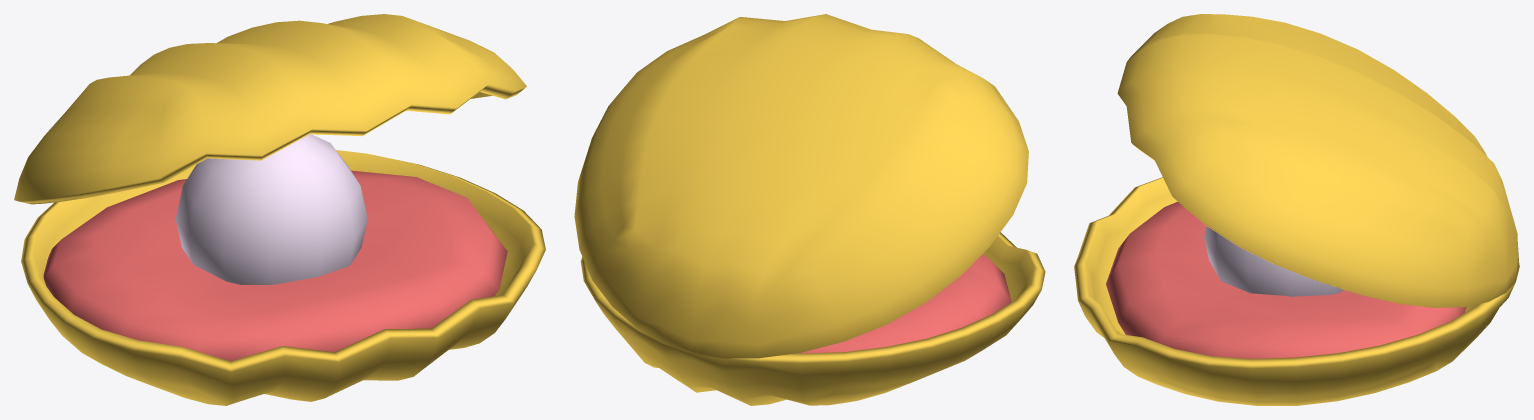
File: Shell.fbx
3 views of the same model, side by side, from view 1: azimuth 30°, elevation 25°; view 2: azimuth 150°, elevation 25°; view 3: azimuth 270°, elevation 25° (orthographic). The views are drawn at different scales.
Visible parts, largest first — view 1: pCube4; view 2: pCube4; view 3: pCube4.
Part boxes in pixels (box(x1,y1,x2,y2)): pCube4: box(14, 14, 545, 405); pCube4: box(574, 14, 1045, 405); pCube4: box(1074, 14, 1519, 405).
Size of the model in its own units: 276 by 194 by 255.
